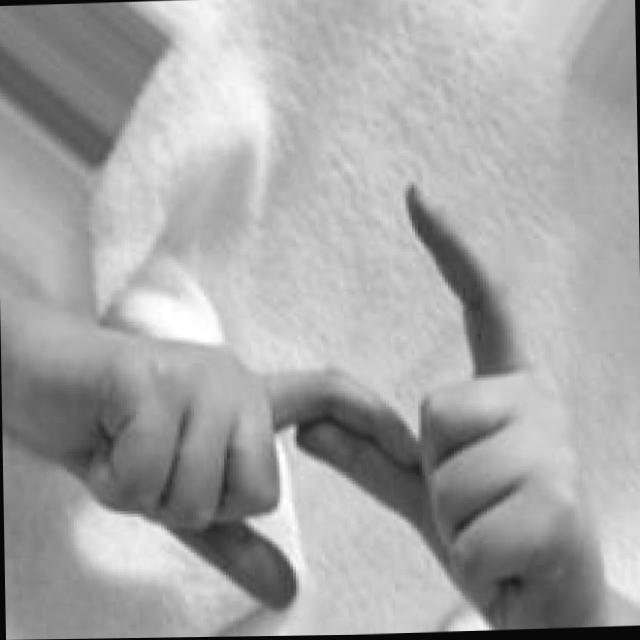S: (0, 172, 607, 640)
